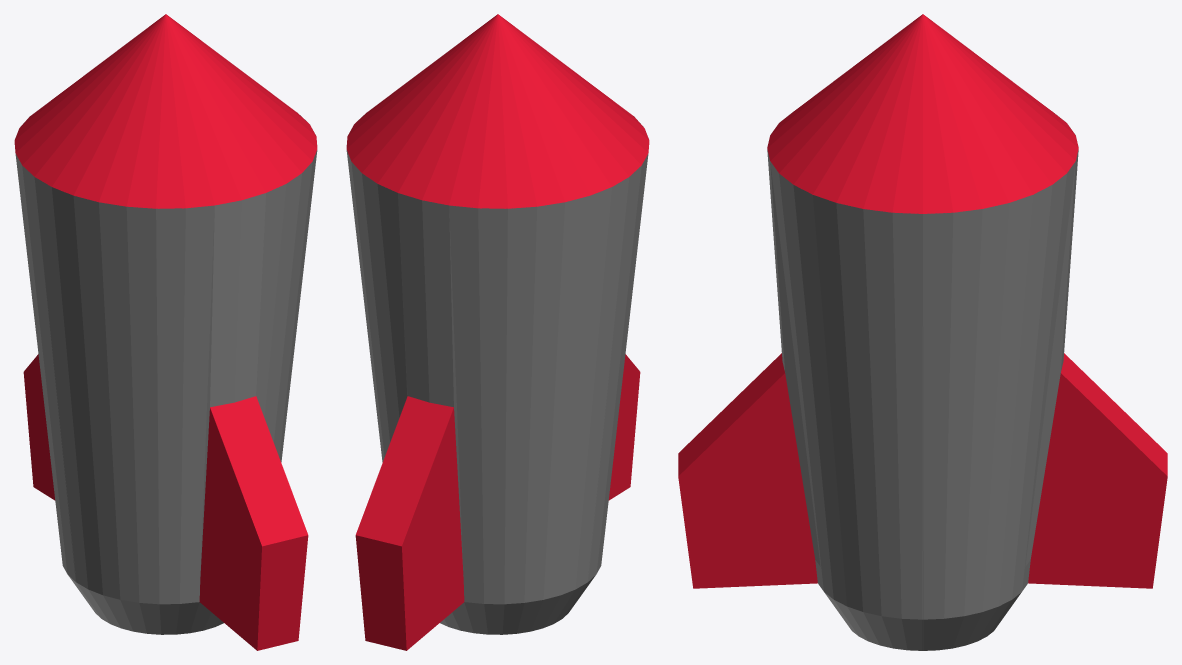
Rendered from Space Ship Model.fbx.
The picture shows the model from 3 angles, left to right: view 1: azimuth 30°, elevation 25°; view 2: azimuth 150°, elevation 25°; view 3: azimuth 270°, elevation 25°; orthographic projection. The views are drawn at different scales.
Parts seen in each view (by area): view 1: Cone; view 2: Cone; view 3: Cone.
Part boxes in pixels (box(x1,y1,x2,y2)): Cone: box(14, 14, 317, 650); Cone: box(346, 14, 649, 650); Cone: box(678, 14, 1167, 650).
Bounding box in the file's own units: 200 × 428 × 314.
